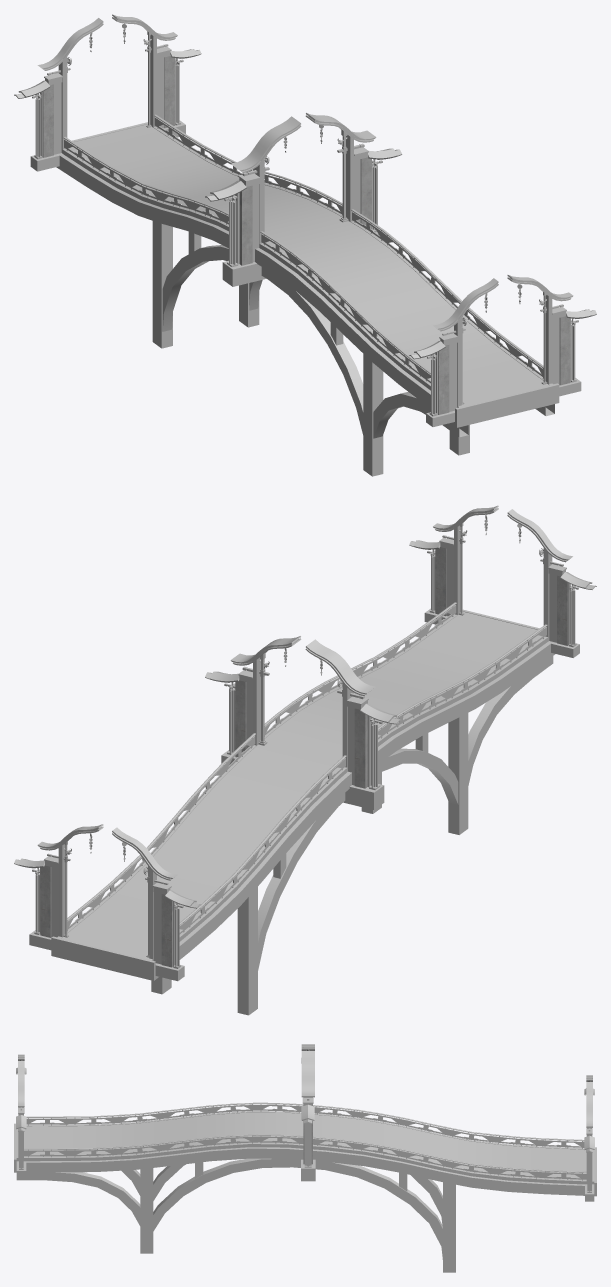
The model's file is SM_Cit_Bri_04AL_04BL.fbx.
The picture shows the model from 3 angles, top to bottom: view 1: azimuth 30°, elevation 25°; view 2: azimuth 150°, elevation 25°; view 3: azimuth 270°, elevation 25°; orthographic projection. The views are drawn at different scales.
Parts seen in each view (by area): view 1: SM_Cit_Bri_04AL.mo, SM_Cit_Bri_04BL.mo; view 2: SM_Cit_Bri_04AL.mo, SM_Cit_Bri_04BL.mo; view 3: SM_Cit_Bri_04AL.mo, SM_Cit_Bri_04BL.mo.
Part boxes in pixels (<box>): SM_Cit_Bri_04AL.mo: <box>14,14,596,476</box>; SM_Cit_Bri_04BL.mo: <box>63,114,543,383</box>; SM_Cit_Bri_04AL.mo: <box>14,505,596,1015</box>; SM_Cit_Bri_04BL.mo: <box>67,602,547,934</box>; SM_Cit_Bri_04AL.mo: <box>14,1044,596,1272</box>; SM_Cit_Bri_04BL.mo: <box>24,1102,586,1180</box>.
Size of the model in its own units: 16.99 by 24.2 by 61.84.
